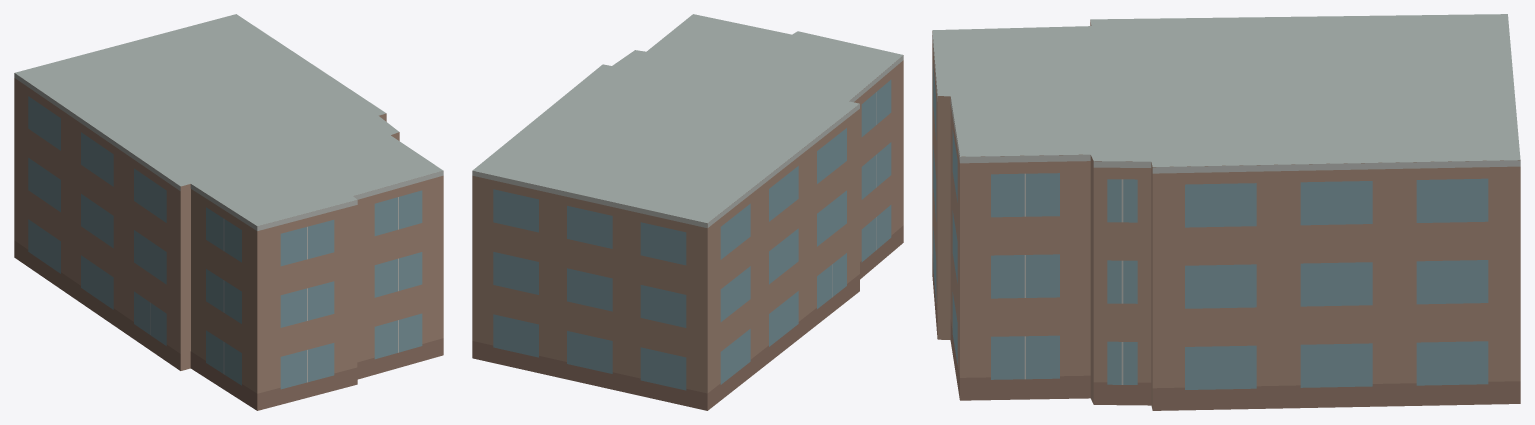
Rendered from survey-upis-32597735.glb.
3 views of the same model, side by side, from view 1: azimuth 30°, elevation 25°; view 2: azimuth 150°, elevation 25°; view 3: azimuth 270°, elevation 25° (orthographic). The views are drawn at different scales.
Parts seen in each view (by area): view 1: survey-upis-32597735.tmp; view 2: survey-upis-32597735.tmp; view 3: survey-upis-32597735.tmp.
Part boxes in pixels (x1=…): survey-upis-32597735.tmp: x1=14, y1=14, x2=443, y2=410; survey-upis-32597735.tmp: x1=472, y1=14, x2=903, y2=410; survey-upis-32597735.tmp: x1=932, y1=14, x2=1520, y2=410.
Size of the model in its own units: 12.33 by 9.15 by 20.02.
